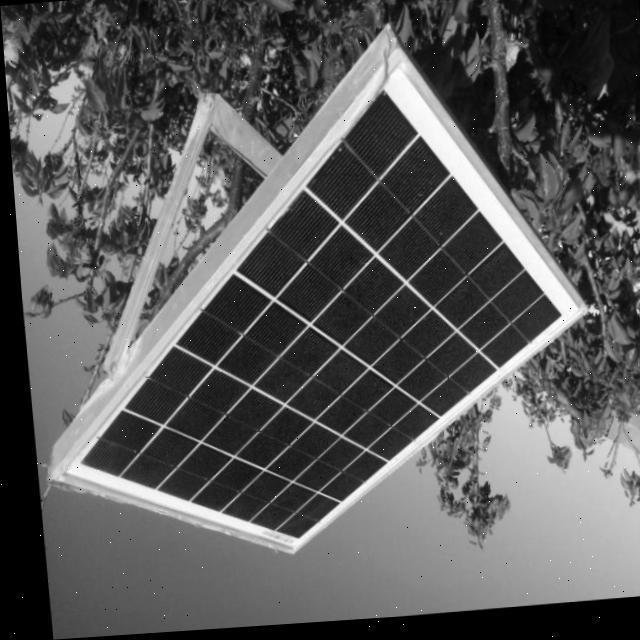Normal Solar Panel: (18, 56, 596, 574)
